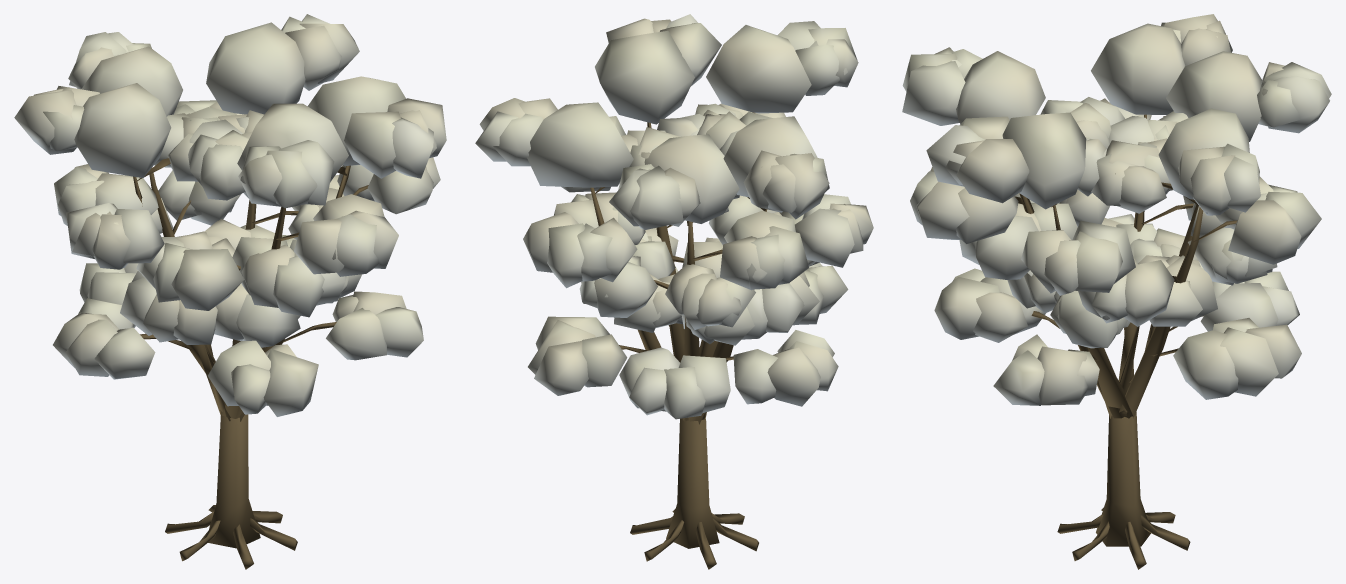
The picture shows the model from 3 angles, left to right: view 1: azimuth 30°, elevation 25°; view 2: azimuth 150°, elevation 25°; view 3: azimuth 270°, elevation 25°; orthographic projection. The views are drawn at different scales.
Visible parts, largest first — view 1: crown, trunk; view 2: crown, trunk; view 3: crown, trunk.
Part boxes in pixels (x1,y1,x2,y2): crown: (14, 14, 446, 416); trunk: (133, 158, 368, 569); crown: (475, 14, 873, 419); trunk: (590, 112, 767, 569); crown: (902, 14, 1331, 405); trunk: (1015, 114, 1237, 569).
Bounding box in the file's own units: 10.68 × 14.16 × 11.43.
